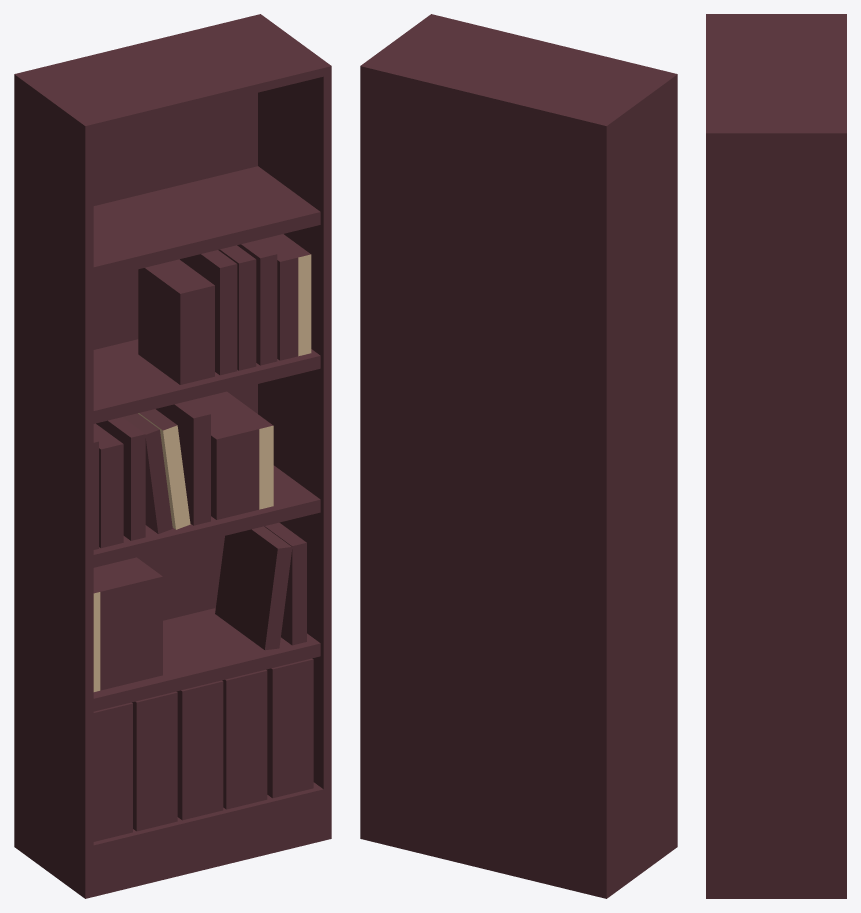
File: library-modern-books.fbx
The picture shows the model from 3 angles, left to right: view 1: azimuth 30°, elevation 25°; view 2: azimuth 150°, elevation 25°; view 3: azimuth 270°, elevation 25°; orthographic projection.
Parts seen in each view (by area): view 1: library-modern-books; view 2: library-modern-books; view 3: library-modern-books.
Part boxes in pixels (x1,y1,x2,y2): library-modern-books: (14, 14, 331, 898); library-modern-books: (360, 14, 677, 898); library-modern-books: (706, 14, 846, 898).
Size of the model in its own units: 0.6003 by 1.8 by 0.3.
